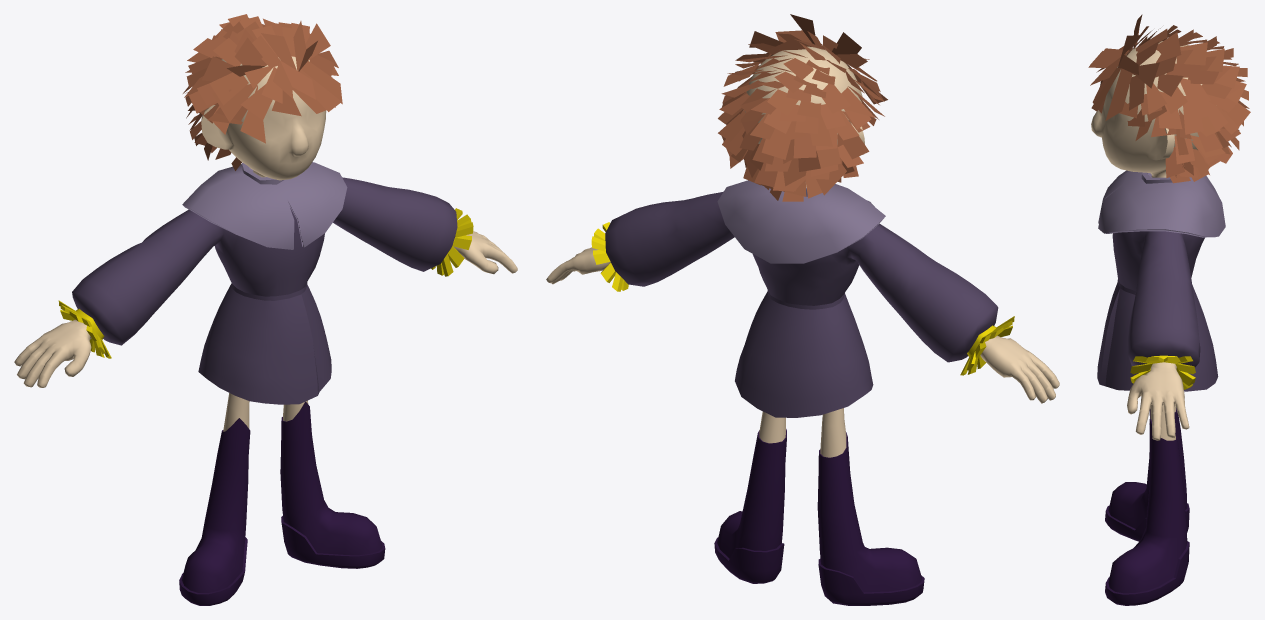
File: TheMan2.fbx
3 renders of one model, left to right at view 1: azimuth 30°, elevation 25°; view 2: azimuth 150°, elevation 25°; view 3: azimuth 270°, elevation 25°, orthographic. The views are drawn at different scales.
Visible parts, largest first — view 1: body, hair, cape, legL, legR, hair1, HandR, HandL; view 2: body, hair, legR, cape, legL, hair1, HandR, HandL; view 3: body, hair, legL, cape, hair1, HandL, legR.
Part boxes in pixels (x1,y1,x2,y2): body: (58,56,473,404); hair: (183,14,342,170); cape: (182,162,347,249); legL: (280,400,385,568); legR: (179,393,250,605); hair1: (184,14,342,170); HandR: (14,319,91,387); HandL: (453,231,517,274); body: (591,46,1014,417); hair: (718,14,887,201); legR: (817,408,924,605); cape: (717,180,885,263); legL: (714,411,786,583); hair1: (719,16,886,201); HandR: (980,335,1059,403); HandL: (546,247,610,284); body: (1091,41,1218,391); hair: (1088,14,1250,183); legL: (1105,405,1189,605); cape: (1098,170,1225,237); hair1: (1091,19,1248,182); HandL: (1127,362,1189,440); legR: (1105,405,1189,541).
Bounding box in the file's own units: 3.87 × 4.16 × 1.14.
